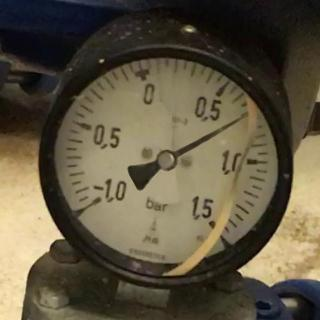gauge: (6, 1, 296, 307), (73, 174, 131, 222), (203, 212, 246, 262), (155, 149, 177, 171), (237, 109, 252, 123)
